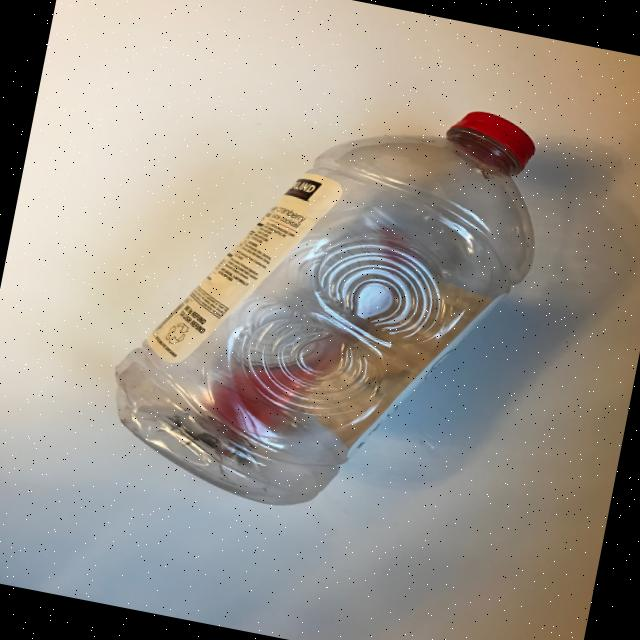plastic: (94, 51, 560, 546)
